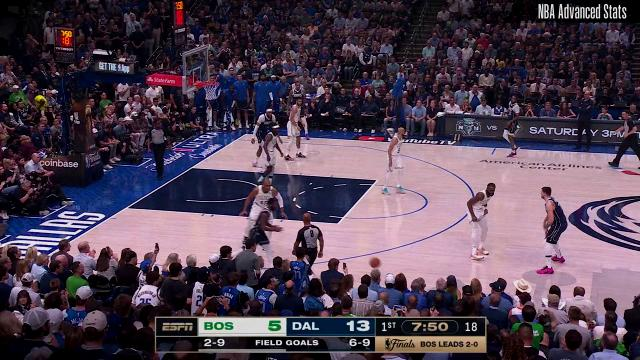3_dx: (234, 136, 242, 142)
b_dx: (242, 130, 250, 138)
free_adx: (373, 176, 381, 184)
free_asx: (331, 219, 341, 229)
free_bdx: (188, 164, 196, 172)
free_bsx: (120, 204, 132, 212)
mid_dx: (491, 144, 499, 152)
referee: (292, 212, 324, 276), (608, 112, 640, 172), (148, 121, 172, 181)
team: (538, 185, 566, 274), (246, 198, 282, 266), (287, 82, 311, 142), (254, 106, 276, 168), (502, 96, 522, 158)
team1: (242, 178, 284, 254), (466, 182, 496, 262), (382, 127, 408, 195), (284, 99, 306, 162), (260, 124, 282, 184)
timer: (406, 320, 449, 334)
